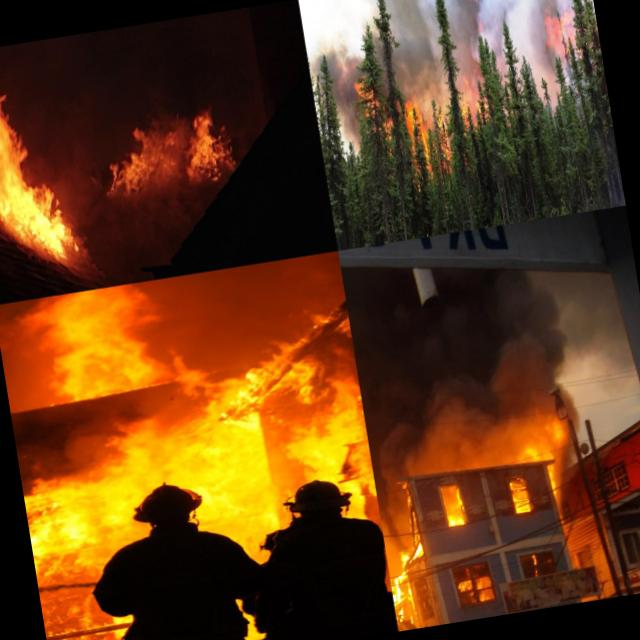fire: (0, 251, 376, 554), (0, 37, 96, 292), (90, 100, 246, 204), (494, 391, 592, 525), (382, 525, 436, 632), (401, 94, 456, 178), (538, 0, 582, 65), (452, 65, 491, 129), (438, 478, 468, 536), (352, 69, 379, 125)
smoke: (344, 267, 506, 487), (476, 255, 576, 403), (443, 0, 547, 68), (306, 44, 364, 146), (386, 10, 448, 100), (366, 0, 590, 18), (376, 484, 420, 530)
